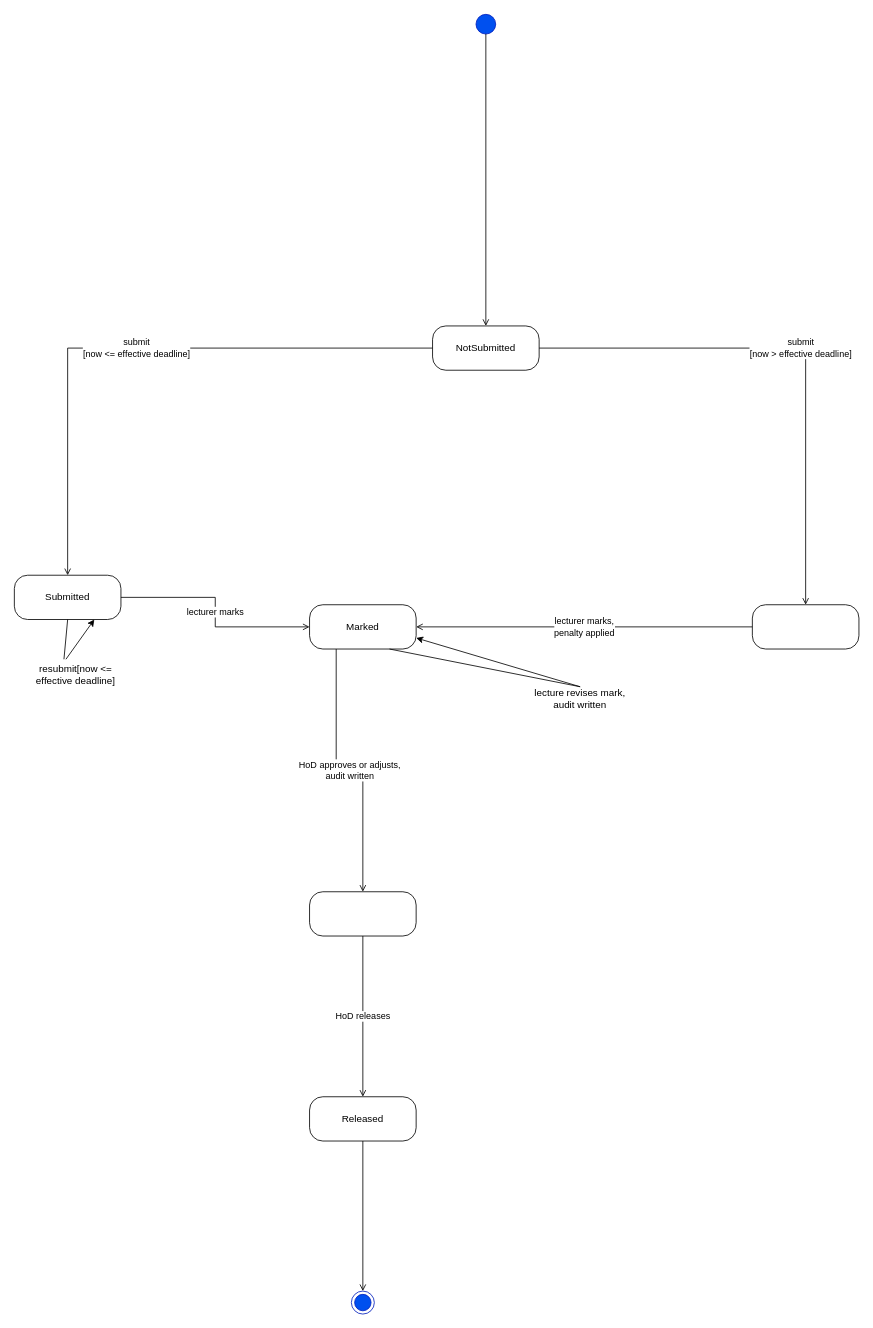
Image size: 873x1328. Some labels were removed from this diagram. Here are the shapes that lost their labels. From the top down, the centre of each, then its label:
[805,626]: Late
[362,913]: Moderated
